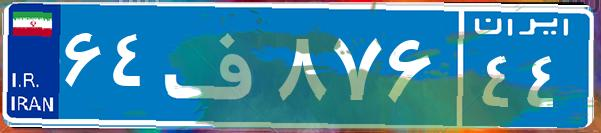4: (475, 38, 525, 113), (110, 28, 158, 105), (525, 38, 570, 115)
6: (385, 28, 445, 110), (57, 26, 110, 107)
7: (330, 28, 385, 110)
8: (273, 28, 330, 110)
ف: (158, 15, 273, 115)
